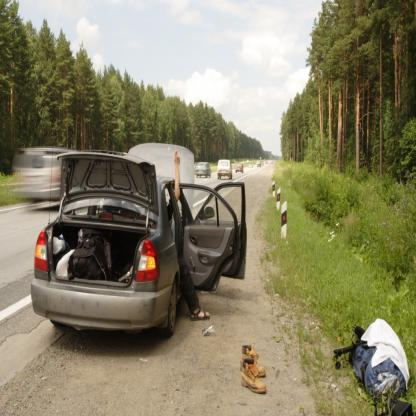Car: (34, 158, 209, 351), (218, 159, 234, 180), (196, 162, 213, 179), (236, 164, 245, 173)
